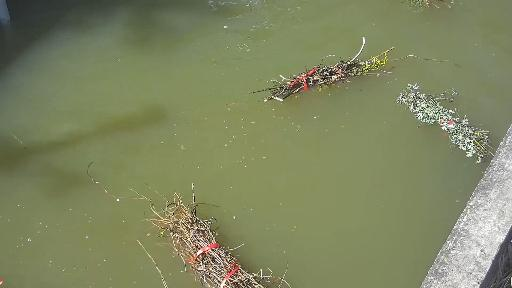twig: (96, 166, 329, 288), (243, 37, 376, 100), (392, 84, 486, 146), (383, 0, 462, 22)
